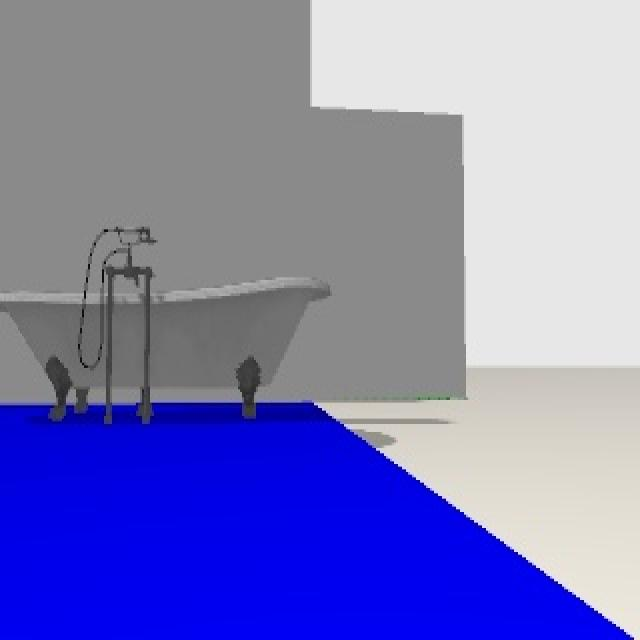bathtub: (0, 227, 332, 424)
